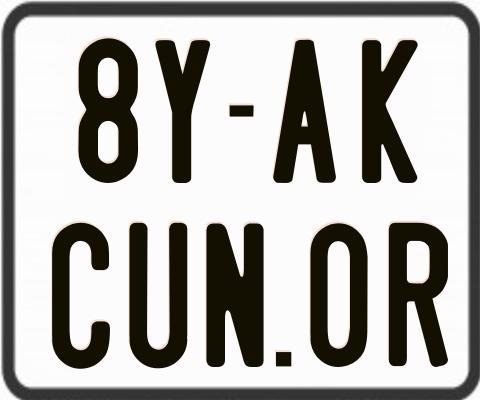0: (309, 221, 371, 366)
8: (77, 35, 137, 180)
A: (270, 39, 339, 182)
C: (50, 222, 108, 374)
K: (361, 40, 419, 183)
N: (203, 220, 263, 367)
R: (386, 221, 449, 366)
U: (129, 222, 192, 367)
Y: (155, 37, 216, 186)
